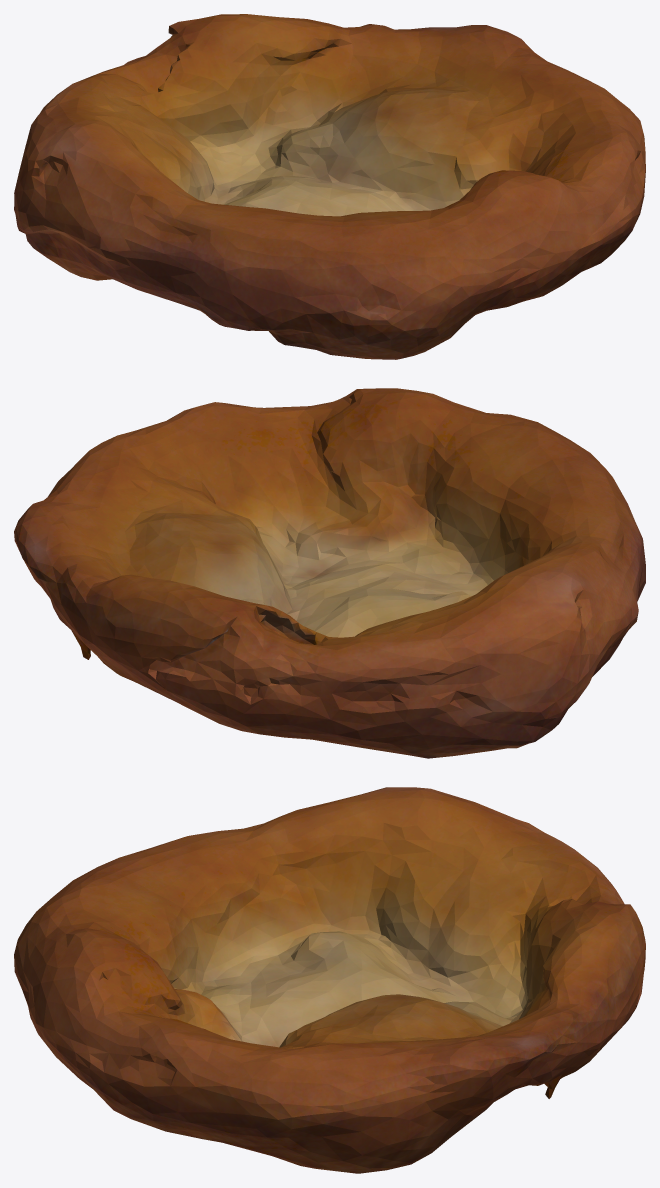
File: F8CACAA8-AE88-674A-8442-222023A4E457_2k.glb
3 renders of one model, top to bottom at view 1: azimuth 30°, elevation 25°; view 2: azimuth 150°, elevation 25°; view 3: azimuth 270°, elevation 25°, orthographic. The views are drawn at different scales.
Visible parts, largest first — view 1: _5k_2k; view 2: _5k_2k; view 3: _5k_2k.
Part boxes in pixels (bbox=[...]): _5k_2k: bbox=[14, 14, 645, 359]; _5k_2k: bbox=[14, 388, 645, 758]; _5k_2k: bbox=[14, 787, 645, 1173].
Size of the model in its own units: 0.115 by 0.0325 by 0.1096.
Materials: 1 (1 with a texture image).
